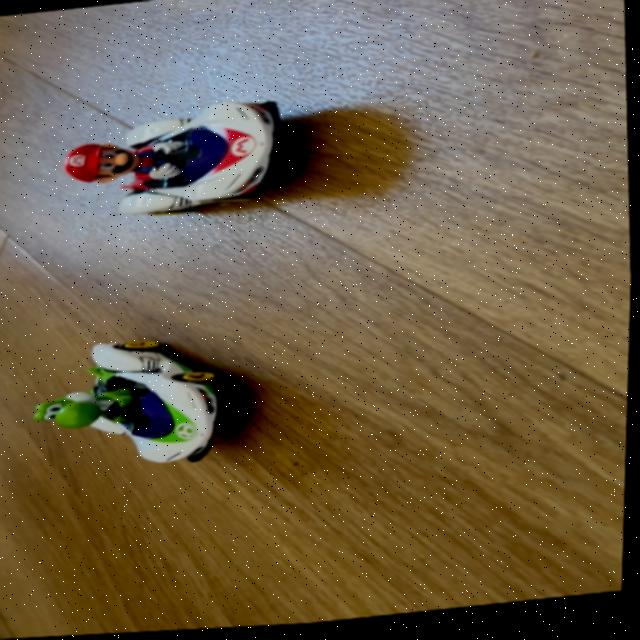mario: (43, 93, 306, 234)
yoshi: (16, 326, 245, 492)
